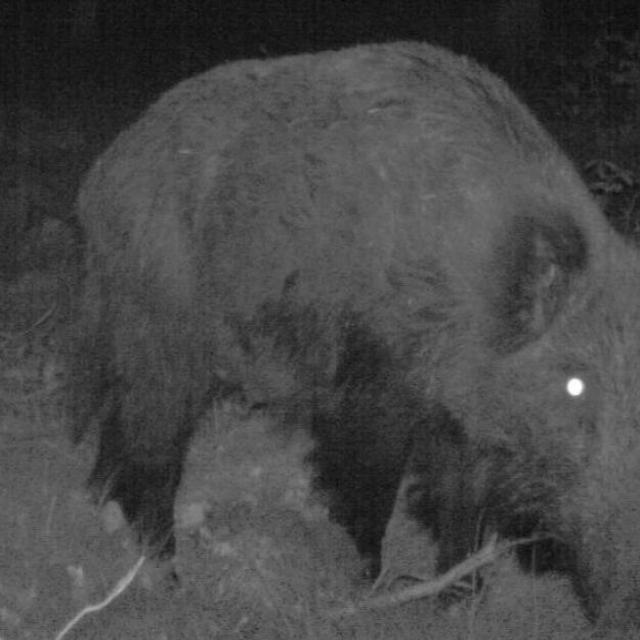pig: (82, 11, 640, 589)
